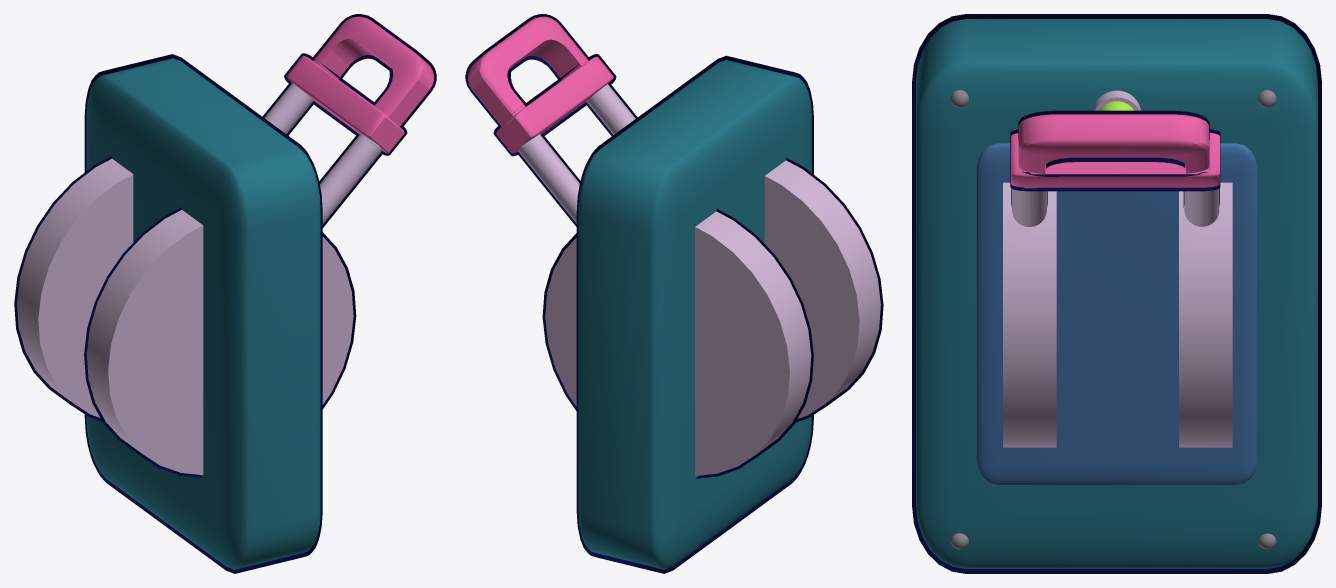
Rendered from lever.fbx.
3 renders of one model, left to right at view 1: azimuth 30°, elevation 25°; view 2: azimuth 150°, elevation 25°; view 3: azimuth 270°, elevation 25°, orthographic. The views are drawn at different scales.
Parts seen in each view (by area): view 1: body01, lever; view 2: body01, lever; view 3: body01, body02, lever, neji, light01.
Boxes of the visible parts, x1=… form: body01: x1=84, y1=54, x2=322, y2=573; lever: x1=14, y1=14, x2=436, y2=477; body01: x1=576, y1=55, x2=813, y2=573; lever: x1=465, y1=14, x2=883, y2=478; body01: x1=912, y1=14, x2=1321, y2=573; body02: x1=976, y1=143, x2=1257, y2=485; lever: x1=1003, y1=110, x2=1232, y2=447; neji: x1=950, y1=90, x2=1276, y2=549; light01: x1=1093, y1=90, x2=1140, y2=110.
Bounding box in the file's own units: 1.8 × 2.19 × 1.46.
